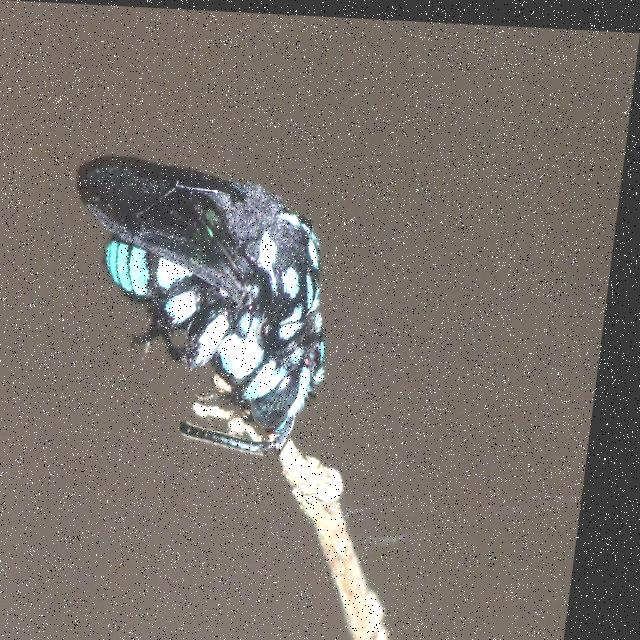Thyreus: (45, 127, 365, 479)
